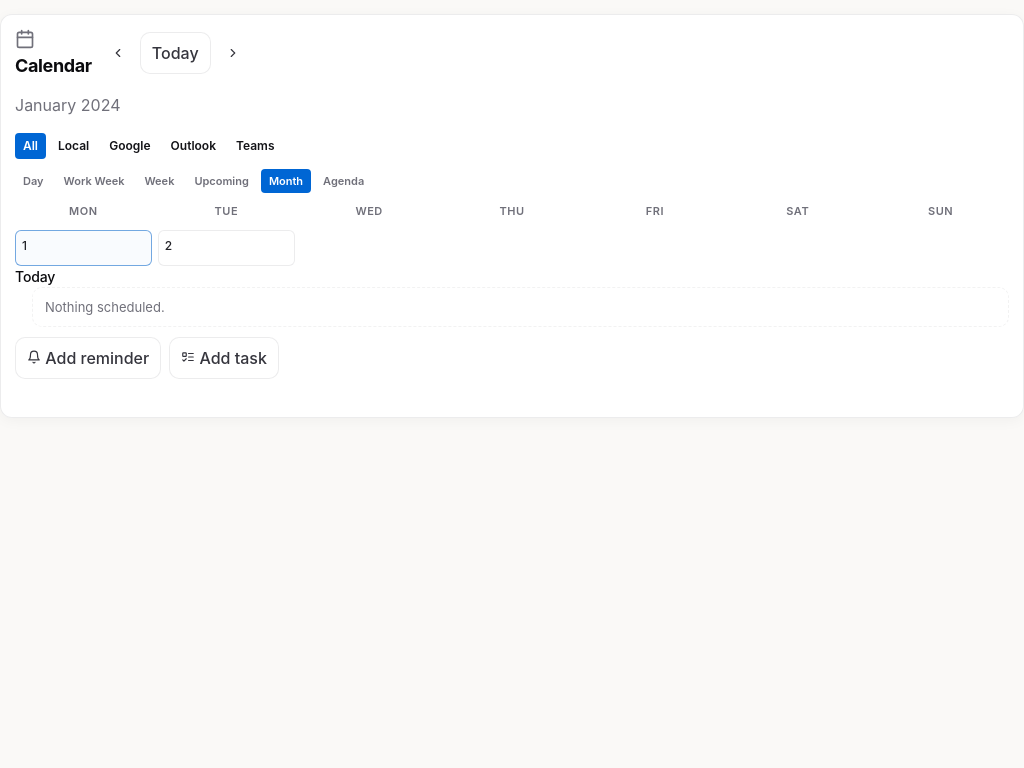
Scenario: CalendarPanel › reminder form opens from Add reminder
The width and height of the screenshot is (1024, 768).
Click the button "Add reminder" at (88, 358), box x1=15 y1=337 x2=161 y2=379
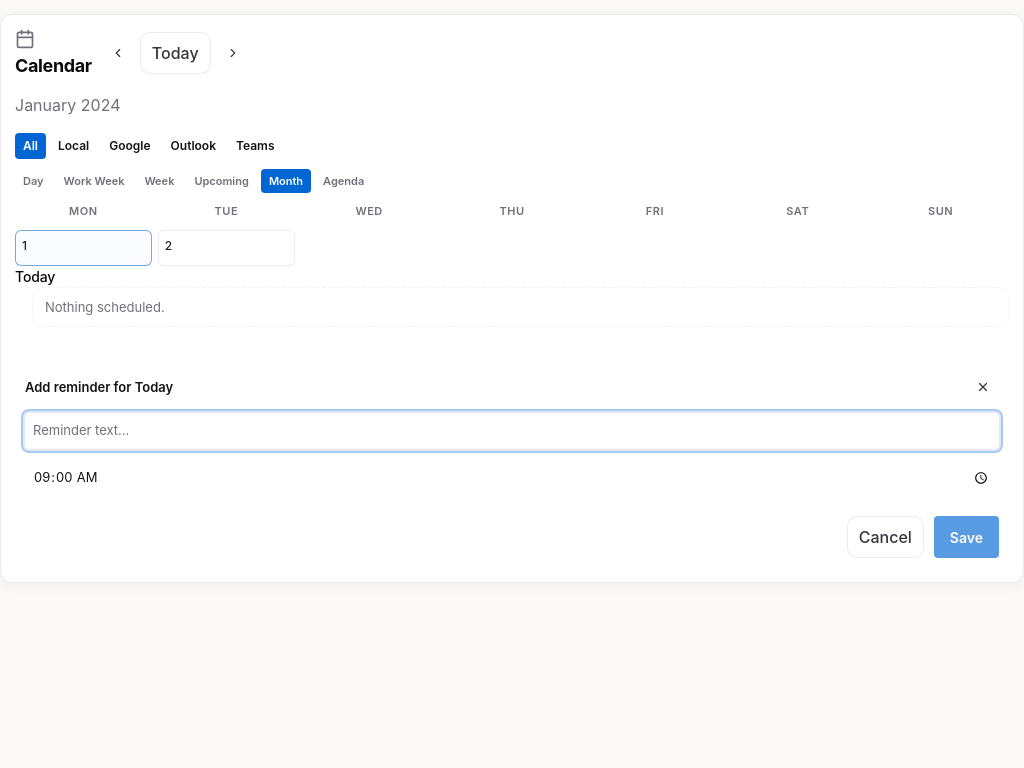
Expected: the text "Add reminder for Today" is shown, x1=25 y1=378 x2=173 y2=397
